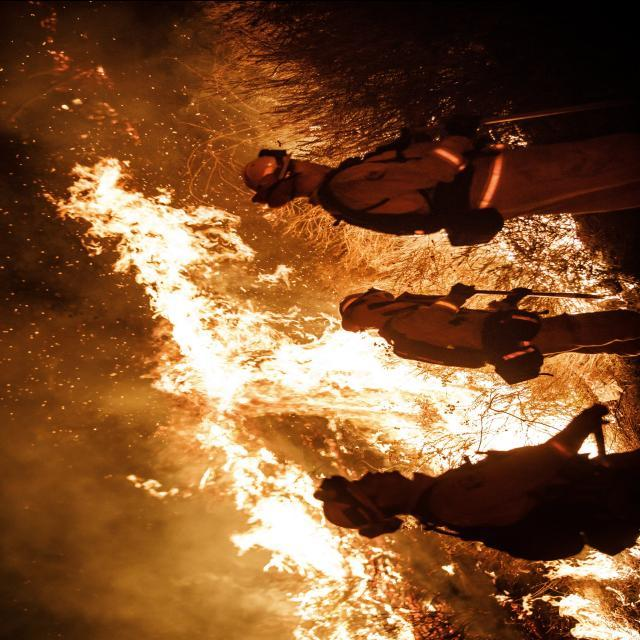Fire: (52, 154, 610, 636)
